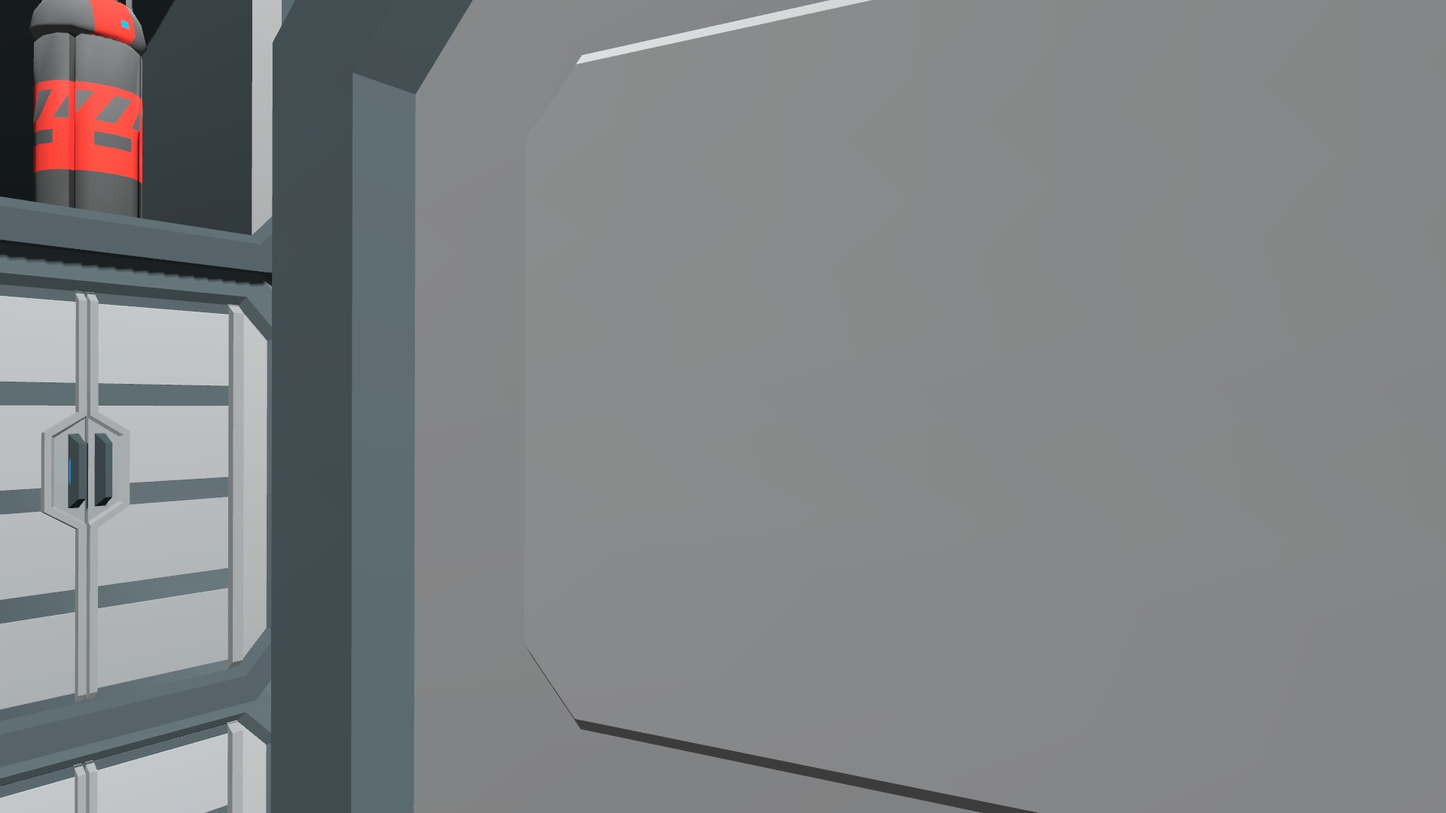red_barrel: (22, 0, 154, 227)
